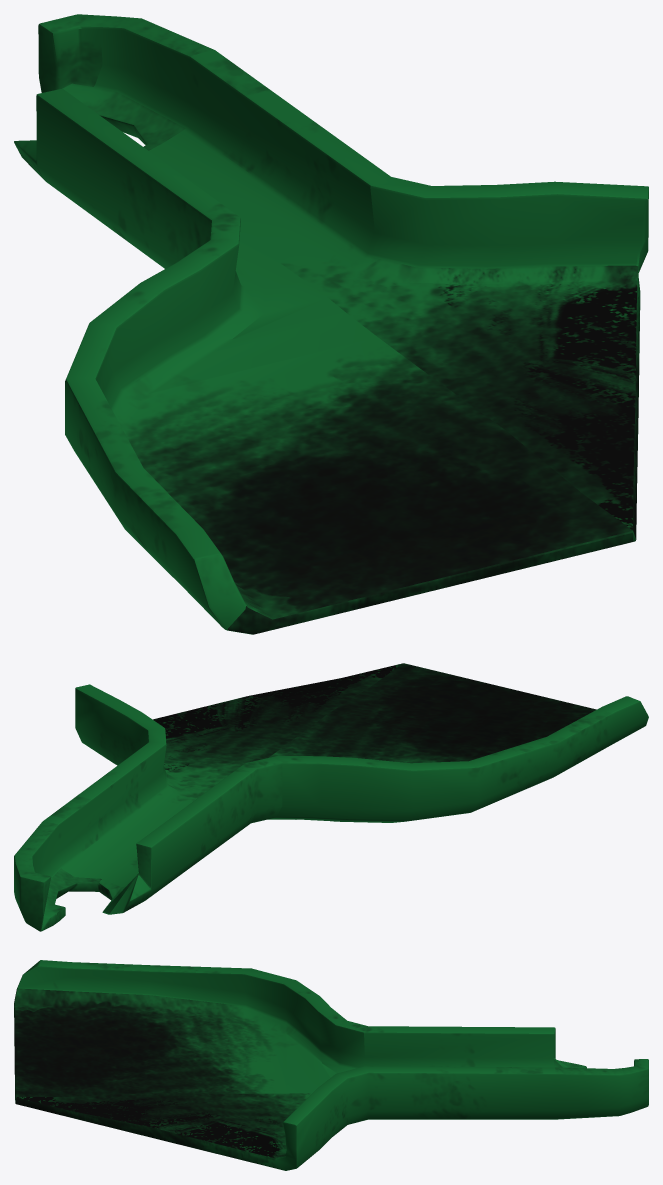
The model's file is case scene 2.fbx.
3 views of the same model, one above another, from view 1: azimuth 30°, elevation 25°; view 2: azimuth 150°, elevation 25°; view 3: azimuth 270°, elevation 25° (orthographic). The views are drawn at different scales.
Parts seen in each view (by area): view 1: holder.001; view 2: holder.001; view 3: holder.001.
Boxes of the visible parts, x1=… form: holder.001: x1=14, y1=14, x2=648, y2=634; holder.001: x1=14, y1=663, x2=648, y2=931; holder.001: x1=14, y1=960, x2=648, y2=1170.
Size of the model in its own units: 213 by 30.05 by 317.
1 material, 1 textured.
